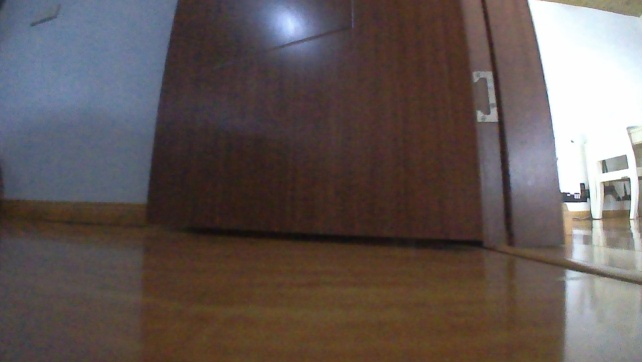door: (142, 0, 566, 251)
